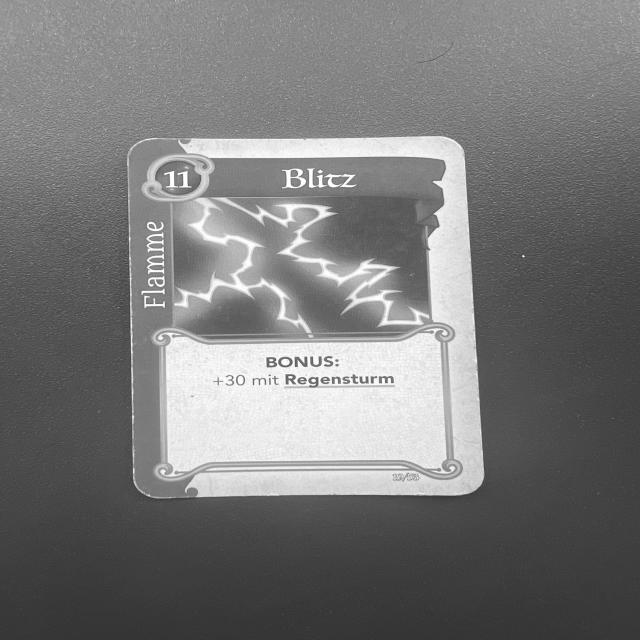Lightning: (115, 132, 497, 509)
